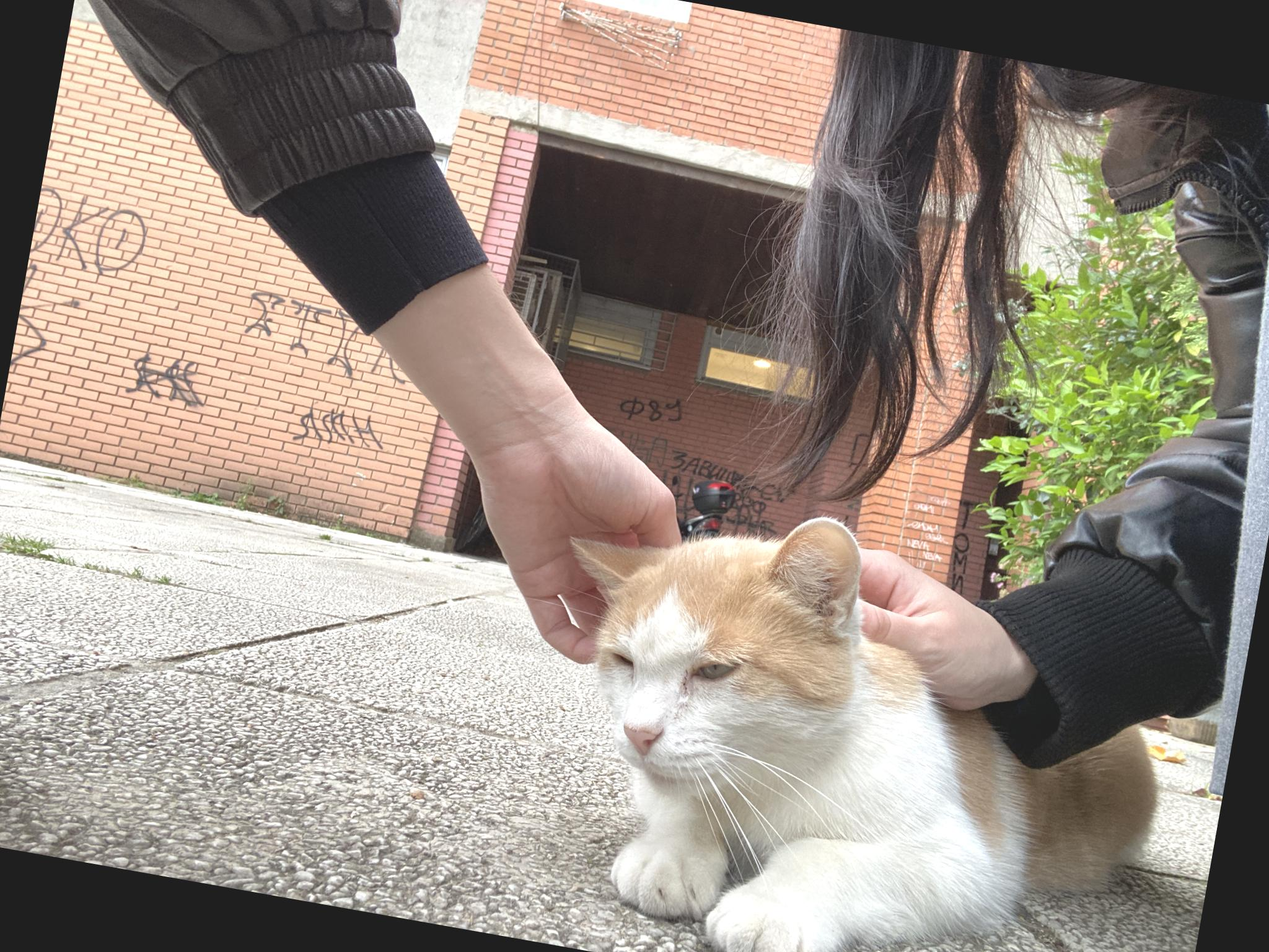macka: (496, 473, 1198, 952)
